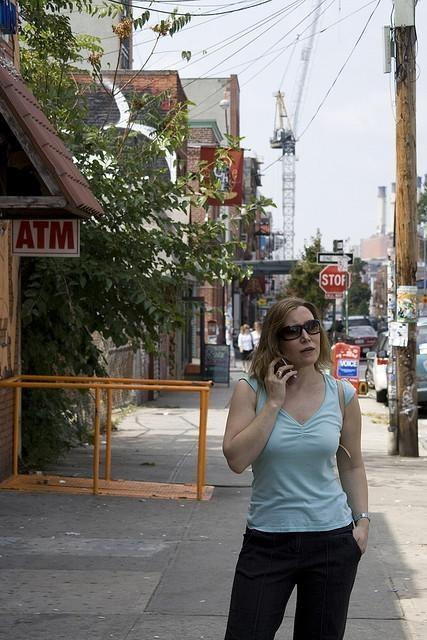car: (366, 331, 390, 407), (340, 326, 378, 354), (348, 315, 375, 329)
